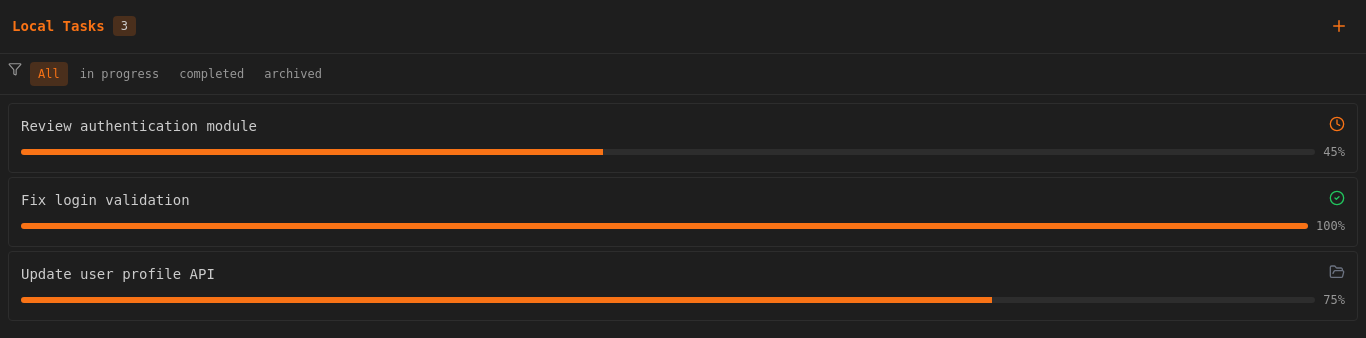
Test: TaskPanel Component › Filtering Functionality › should filter tasks by in_progress status
Click the button "in progress" at [119, 74], box [72,62,167,86]
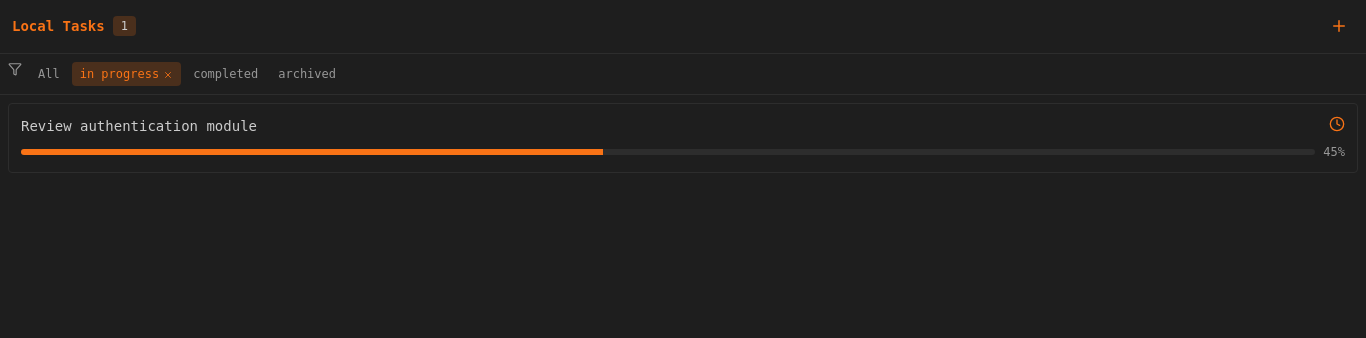
Expected: the heading "Fix login validation" is gone
Expected: the heading "Update user profile API" is gone
Expected: the text "1" is shown, [113,16,136,36]
